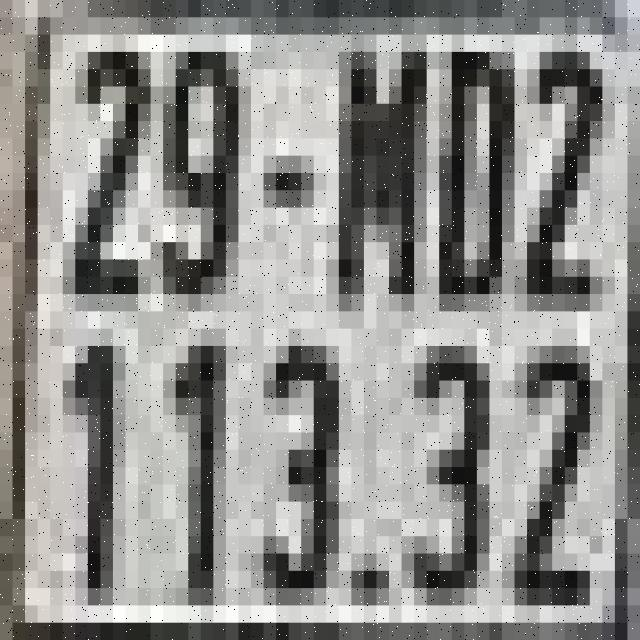1: (176, 346, 226, 605), (69, 346, 119, 605)
2: (75, 52, 151, 294), (527, 52, 602, 294), (521, 364, 596, 606)
3: (263, 346, 339, 588), (414, 354, 490, 596)
9: (163, 52, 239, 294)
D: (439, 52, 515, 294)
M: (332, 43, 420, 303)
